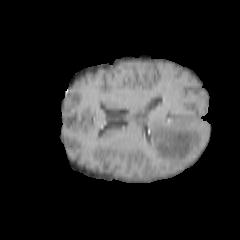glioma: (146, 118, 205, 161)
